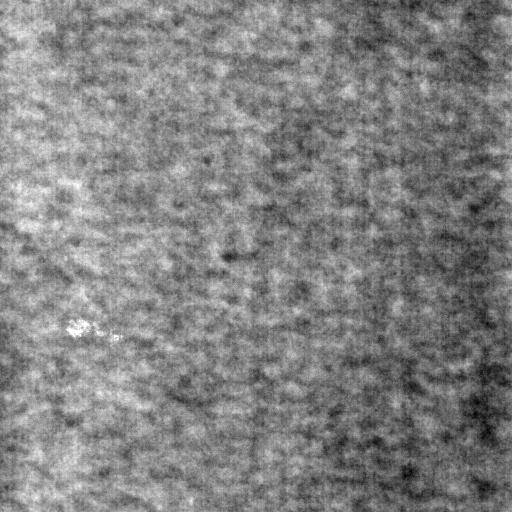DefectTypeA: (67, 316, 124, 348)
